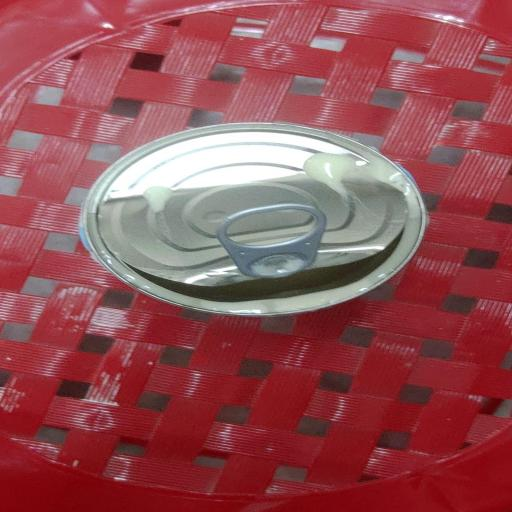can: (86, 121, 429, 318)
pop tab: (214, 200, 330, 278)
